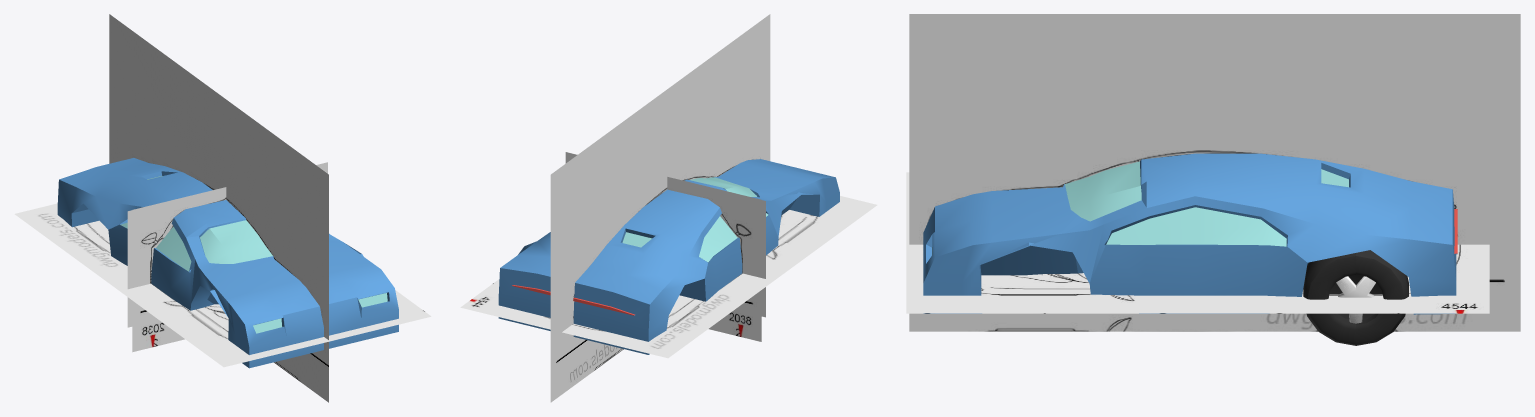
The model's file is BlueCarModel.fbx.
3 views of the same model, side by side, from view 1: azimuth 30°, elevation 25°; view 2: azimuth 150°, elevation 25°; view 3: azimuth 270°, elevation 25° (orthographic). The views are drawn at different scales.
Visible parts, largest first — view 1: Cube, Blueprints, Blueprints Top, Blueprints Front, Blueprints Back; view 2: Blueprints, Cube, Blueprints Top, Blueprints Back, Blueprints Front; view 3: Blueprints, Cube, Blueprints Top, Wheel.
Boxes of the visible parts, box(x1,y1,x2,y2) form: Cube: box(57, 158, 398, 368); Blueprints: box(109, 14, 328, 402); Blueprints Top: box(14, 203, 431, 367); Blueprints Front: box(127, 187, 226, 327); Blueprints Back: box(132, 162, 327, 352); Blueprints: box(550, 14, 770, 402); Cube: box(498, 159, 839, 354); Blueprints Top: box(460, 196, 877, 358); Blueprints Back: box(565, 152, 761, 341); Blueprints Front: box(576, 155, 765, 317); Blueprints: box(909, 14, 1520, 331); Cube: box(923, 153, 1457, 314); Blueprints Top: box(906, 172, 1489, 313); Wheel: box(1303, 250, 1408, 345).
Size of the model in its own units: 432 by 456 by 794.
